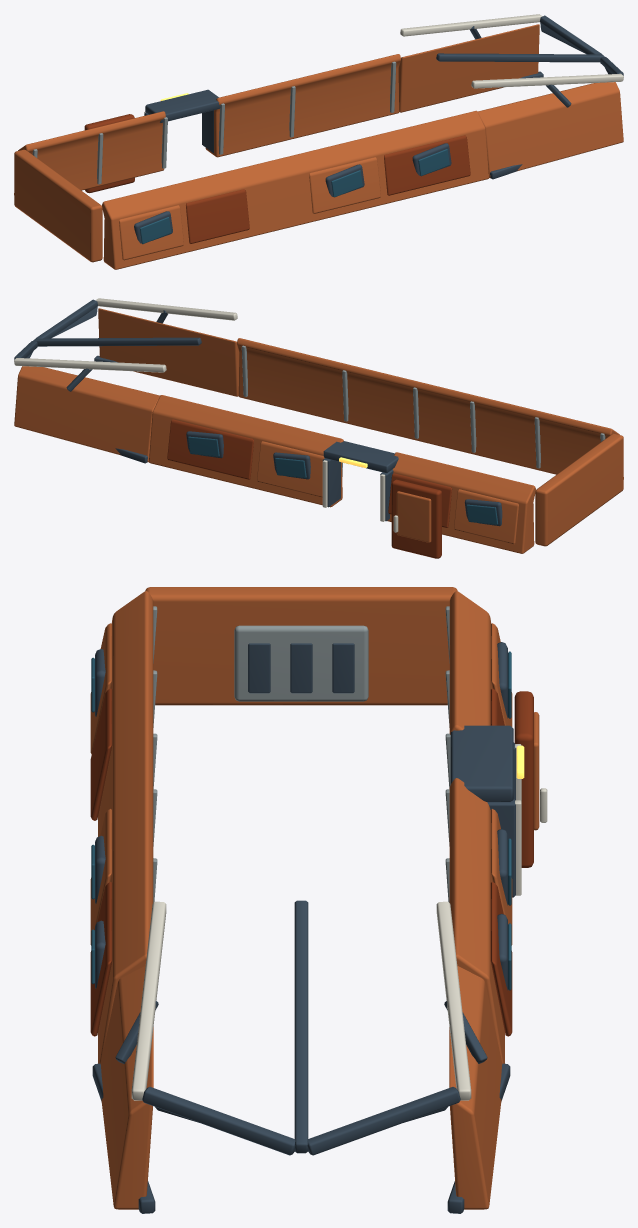
File: SM_SSTO_UpperHull.fbx
3 views of the same model, one above another, from view 1: azimuth 30°, elevation 25°; view 2: azimuth 150°, elevation 25°; view 3: azimuth 270°, elevation 25° (orthographic). The views are drawn at different scales.
Visible parts, largest first — view 1: SM_SSTO_UpperHull; view 2: SM_SSTO_UpperHull; view 3: SM_SSTO_UpperHull.
Boxes of the visible parts, left/top/right/bottom form: SM_SSTO_UpperHull: left=14, top=14, right=623, bottom=269; SM_SSTO_UpperHull: left=14, top=298, right=623, bottom=558; SM_SSTO_UpperHull: left=90, top=587, right=547, bottom=1213.
Bounding box in the file's own units: 2034 × 728 × 376.
